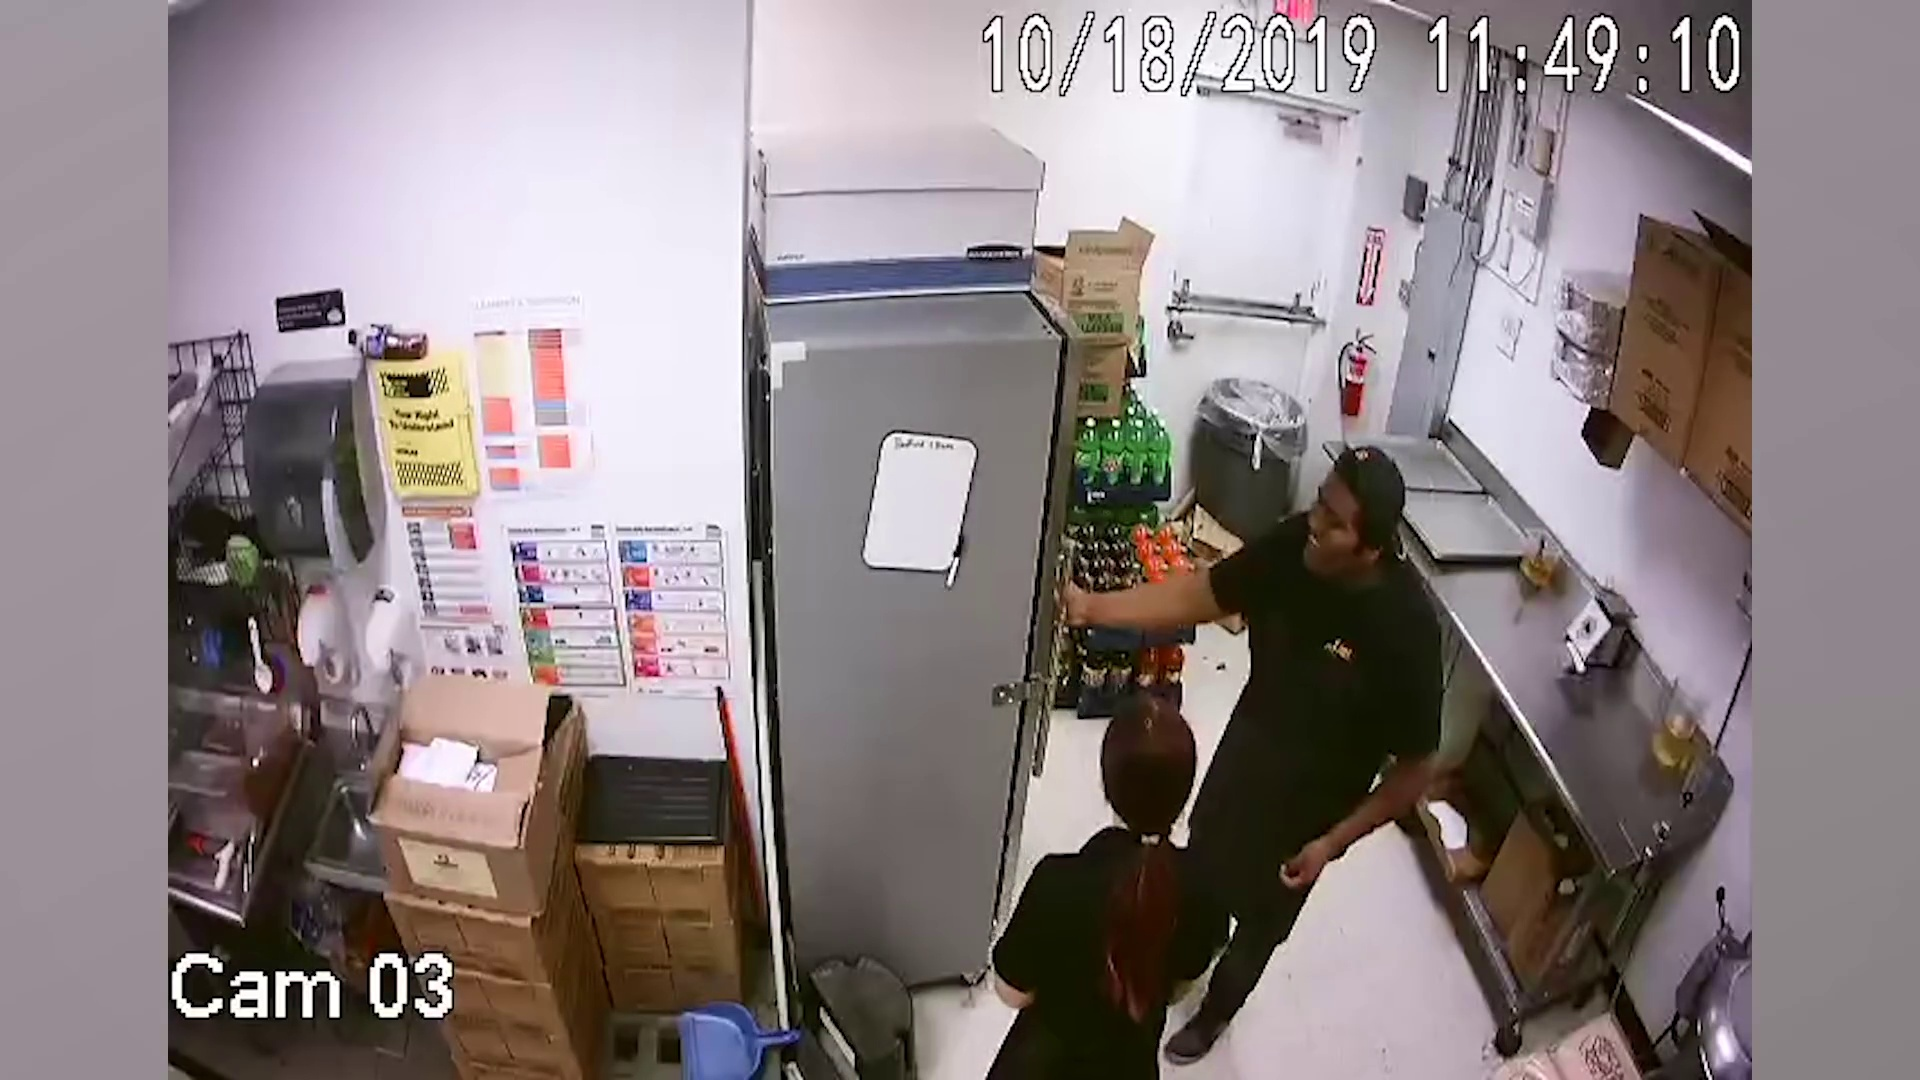face: (1303, 489, 1362, 571)
